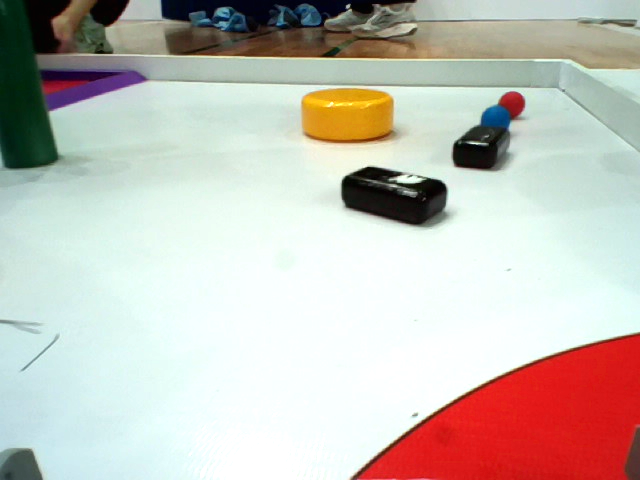black: (300, 159, 450, 230), (434, 126, 517, 171)
blue: (478, 105, 524, 142)
kuang: (1, 61, 154, 114)
red: (492, 86, 530, 120)
yellow: (269, 88, 423, 145)
zhuzi: (1, 1, 71, 179)
